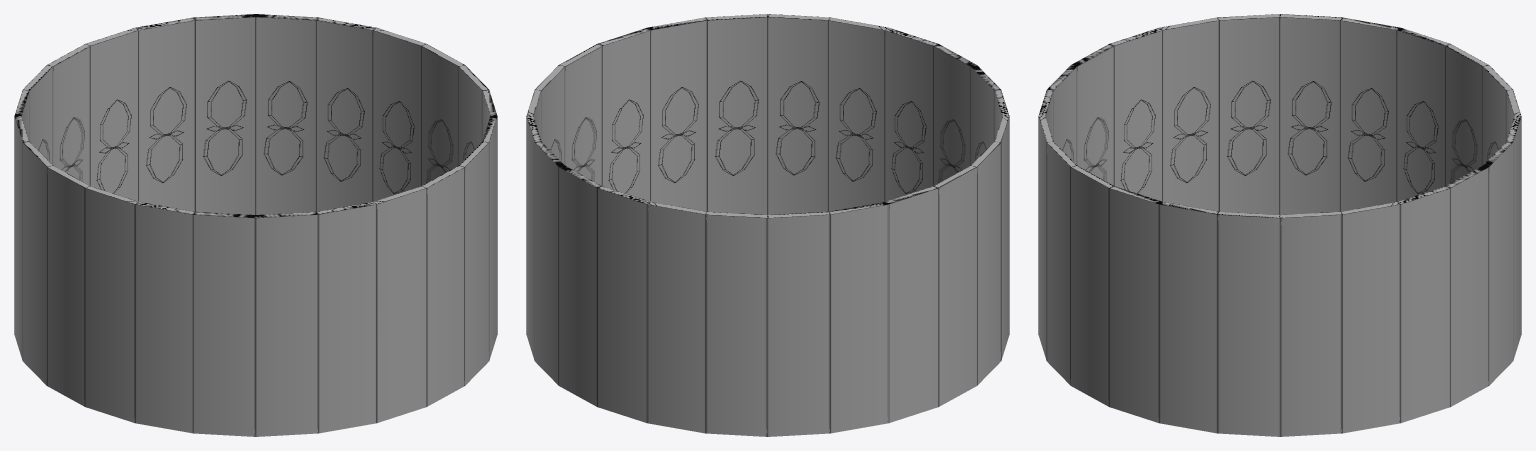
The model's file is Intertank.obj.
The picture shows the model from 3 angles, left to right: view 1: azimuth 30°, elevation 25°; view 2: azimuth 150°, elevation 25°; view 3: azimuth 270°, elevation 25°; orthographic projection.
Parts seen in each view (by area): view 1: Tube1; view 2: Tube1; view 3: Tube1.
Boxes of the visible parts, x1=… form: Tube1: x1=14, y1=14, x2=497, y2=436; Tube1: x1=526, y1=14, x2=1009, y2=436; Tube1: x1=1038, y1=14, x2=1521, y2=436.
Size of the model in its own units: 1 by 0.5 by 1.
1 material, 1 textured.
